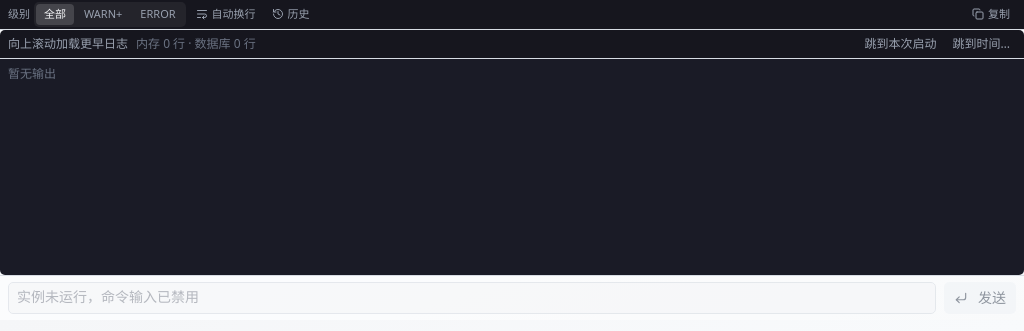
FR-416 历史按实例持久化（刷新后仍在） › 已持久化的历史在组件首次挂载即可用（等价于刷新后 ↑ 就能翻到）
# 历史抽屉列出持久化内容（命令栏被 readOnly 禁用，↑ 走不通，故断言渲染出的历史）。
Click the button "历史" at (291, 14), box x1=266 y1=4 x2=316 y2=24
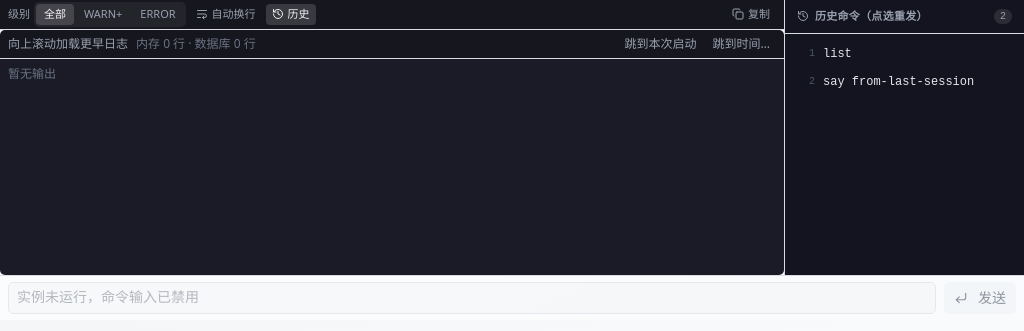
Expected: the field named "控制台命令输入" is disabled, x1=8 y1=282 x2=936 y2=314
Result: the button "1 list" is shown at x1=791 y1=40 x2=1018 y2=68
Result: the button "2 say from-last-session" is shown at x1=791 y1=68 x2=1018 y2=96
